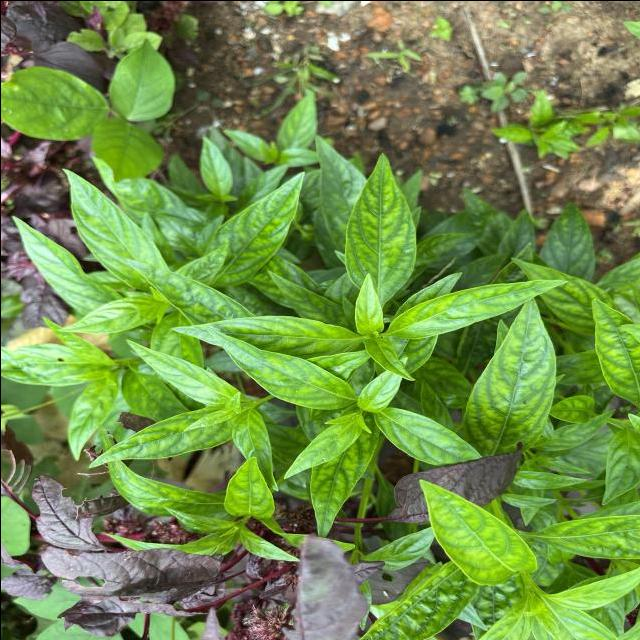Andrographis paniculata: (460, 295, 557, 452), (58, 165, 164, 295), (414, 478, 538, 588), (203, 322, 355, 411), (206, 168, 306, 290), (378, 277, 570, 340), (342, 151, 417, 306), (84, 404, 232, 468), (121, 337, 242, 405), (585, 296, 640, 408), (374, 407, 480, 464), (280, 414, 362, 480), (55, 293, 160, 333), (222, 452, 274, 520)
